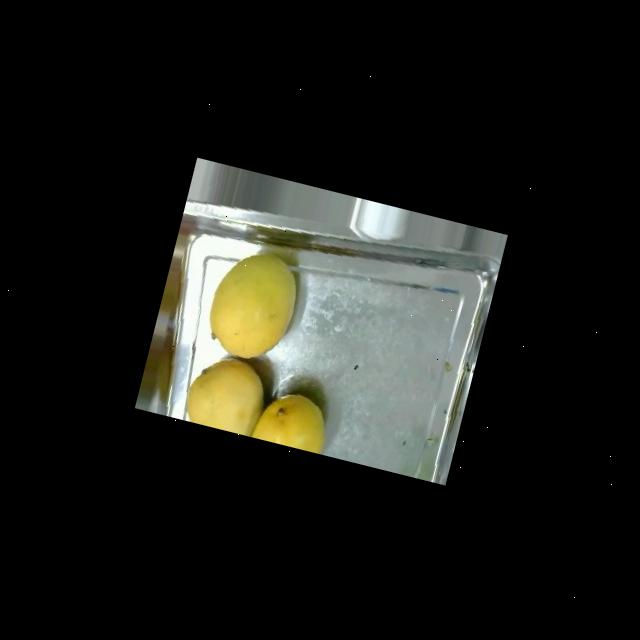Mango: (200, 242, 306, 367), (180, 348, 272, 436), (250, 384, 334, 453)
